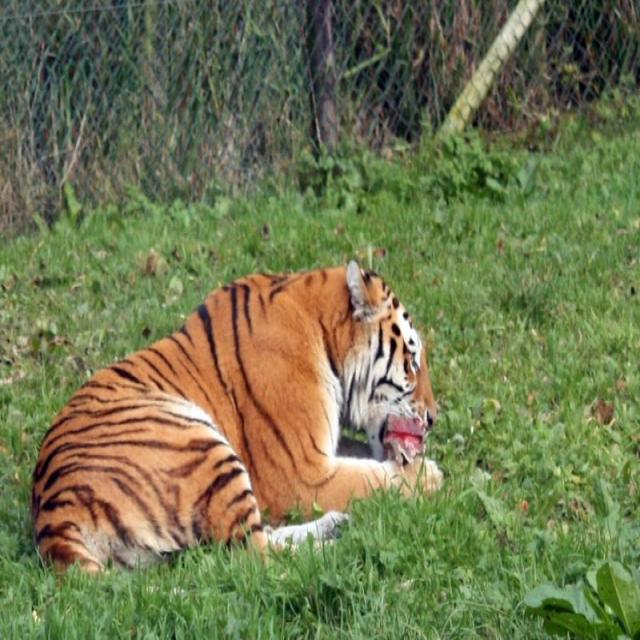Tiger: (26, 250, 447, 591)
